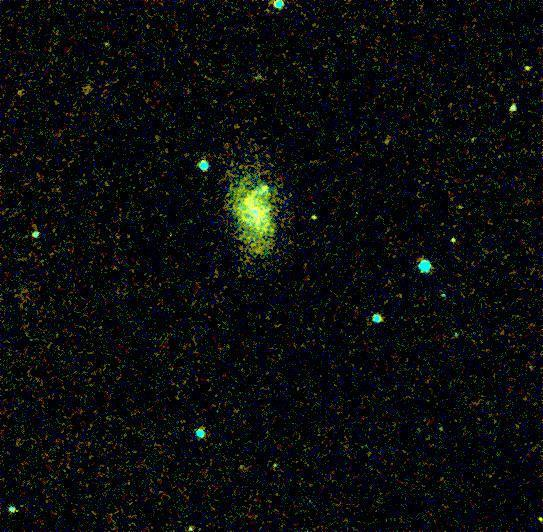star: (250, 174, 280, 204)
